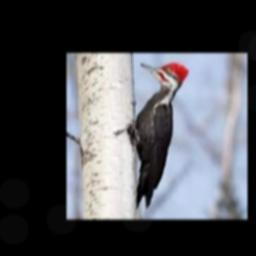Woodpecker: (129, 63, 189, 210)
